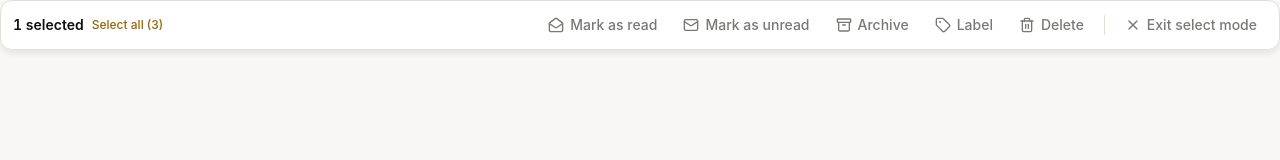
Test: the bulk bar's label picker › says so when the labels could not be read, rather than offering none
Click the button with aria-label "Apply label".
click(964, 25)  # box left=925, top=9, right=1003, bottom=41
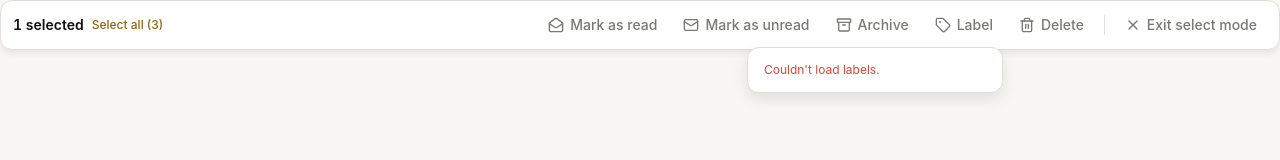
Expected: the text "Couldn't load labels." is shown, left=764, top=62, right=880, bottom=77
